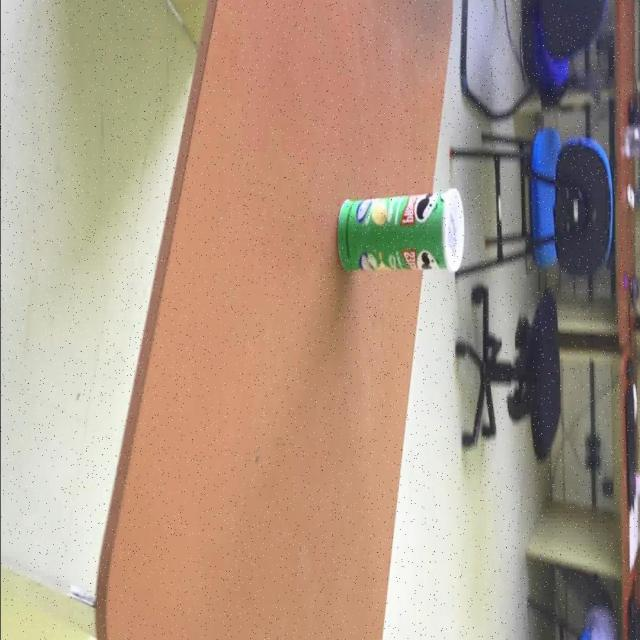Pringles: (337, 189, 465, 275)
